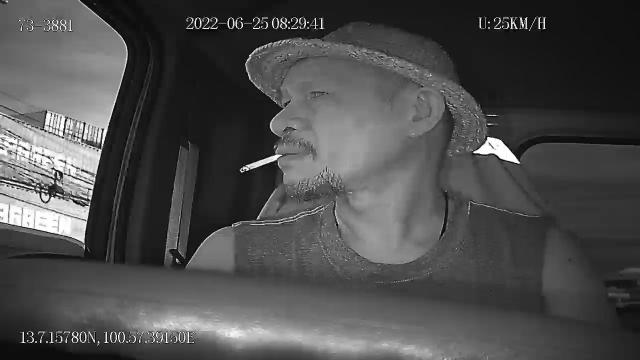Cigarette: (240, 152, 284, 174)
